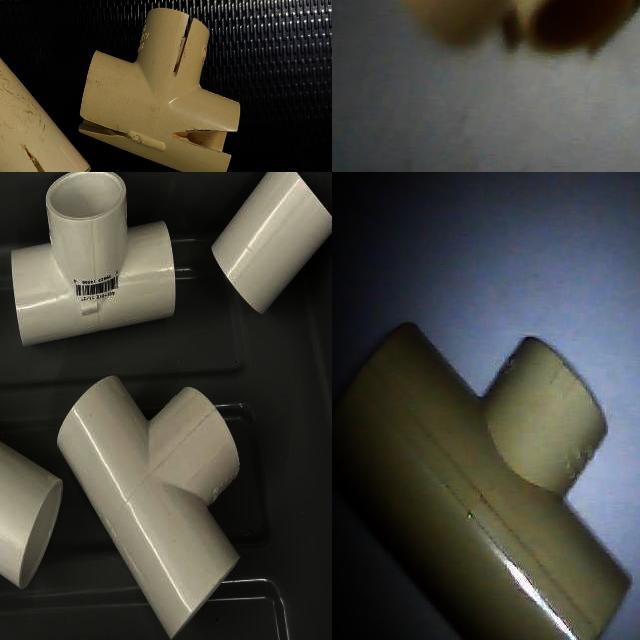T Joint: (332, 329, 628, 640), (56, 376, 245, 640), (12, 172, 176, 339), (0, 440, 63, 590)
